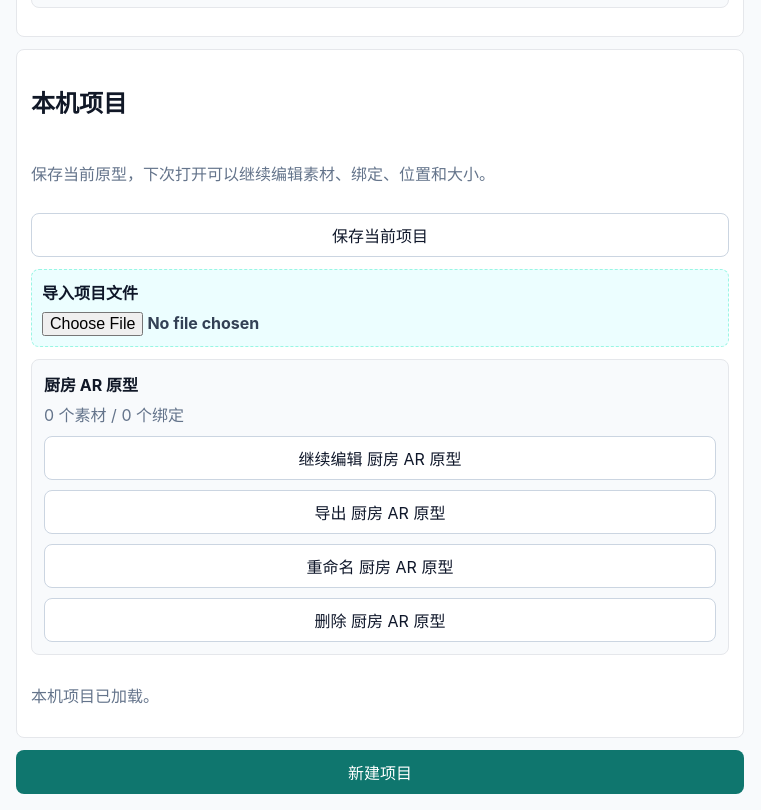
Test: App › renames a saved project from the home project list
(page scrolled)
Check: the text "厨房 AR 原型" is shown, box [44,375,138,395]
Click the button "重命名 厨房 AR 原型".
click(380, 566)  # box [44,544,716,588]
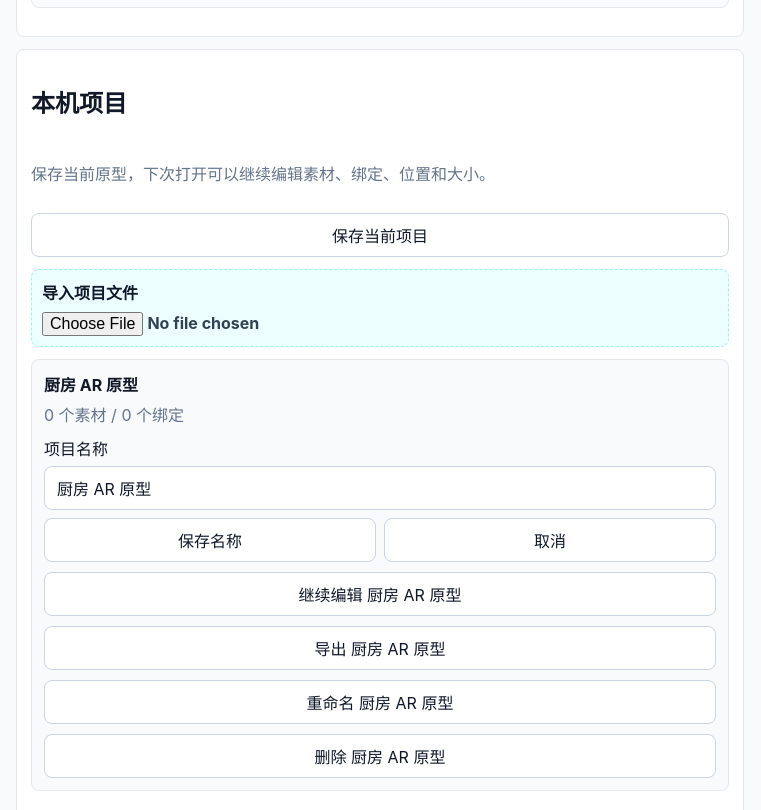
Replace the text in the field labelled "项目名称" with "展厅 AR 原型" at coordinates (380, 488), box [44,466,716,510]
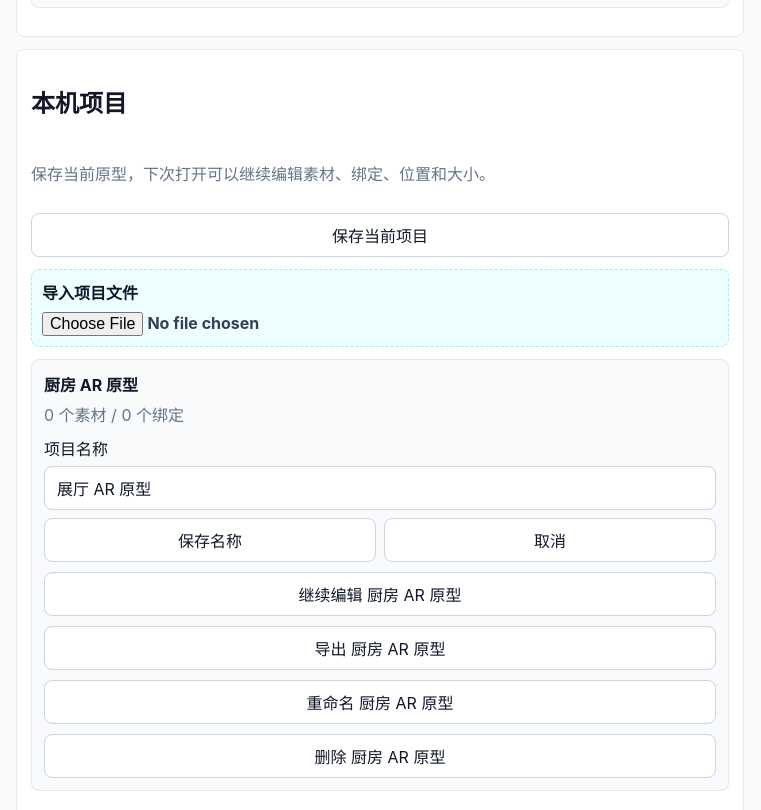
Click the button "保存名称".
click(210, 540)  # box [44,518,376,562]
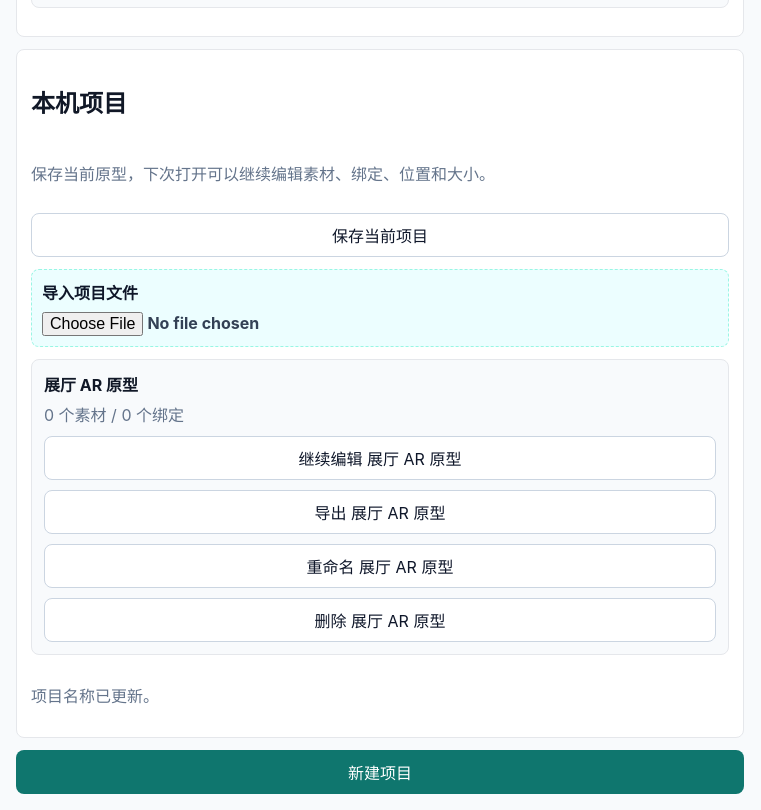
Check: the text "展厅 AR 原型" is shown, box [44,375,138,395]
